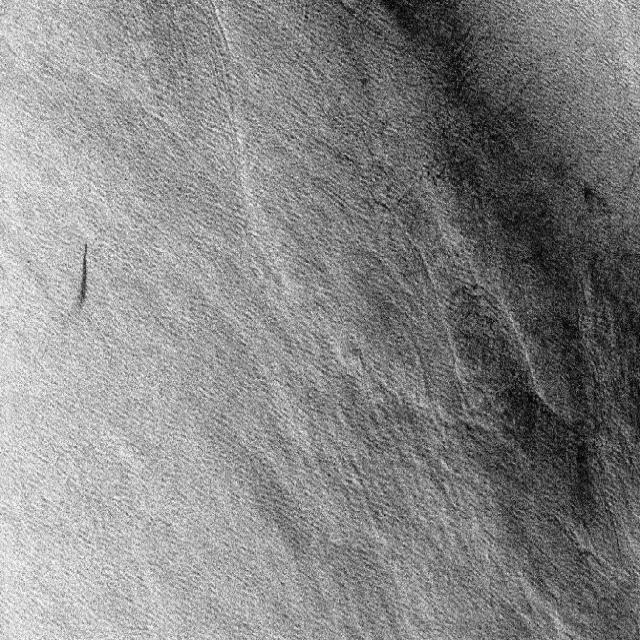look-alike: (369, 0, 635, 299), (419, 320, 636, 620)
oil-spill: (70, 240, 96, 309)
